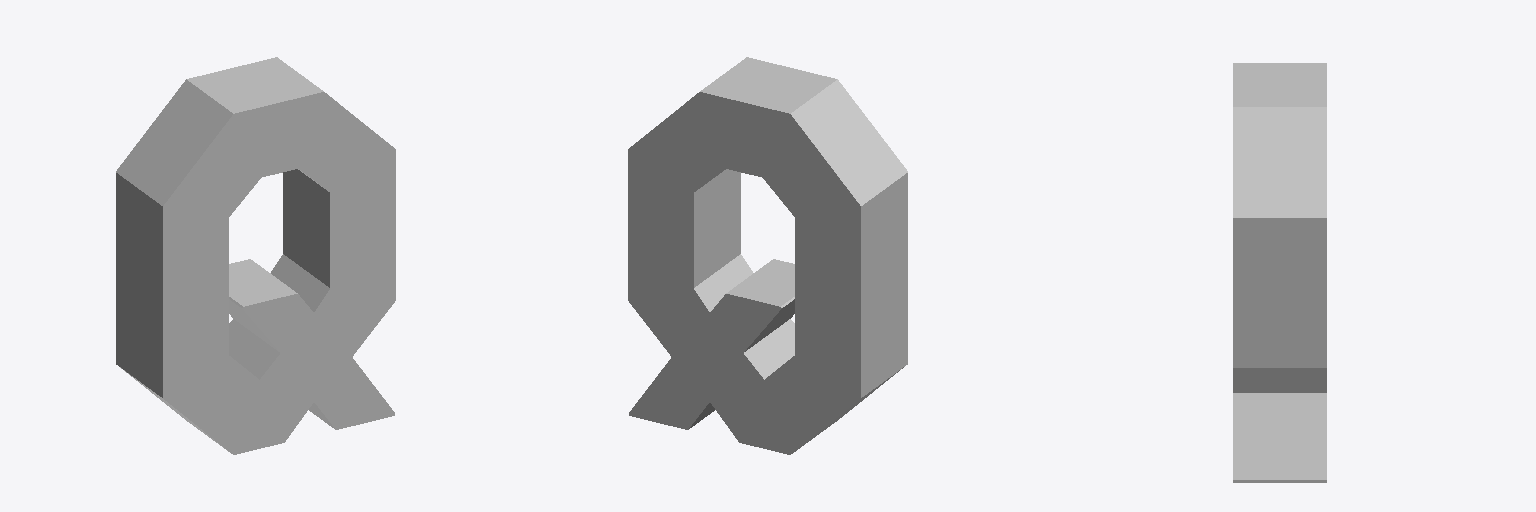
3 views of the same model, side by side, from view 1: azimuth 30°, elevation 25°; view 2: azimuth 150°, elevation 25°; view 3: azimuth 270°, elevation 25° (orthographic).
Parts seen in each view (by area): view 1: text: ABCDEFGHIJKLMNOPQRSTUVWXYZ[number redacted]; view 2: text: ABCDEFGHIJKLMNOPQRSTUVWXYZ[number redacted]; view 3: text: ABCDEFGHIJKLMNOPQRSTUVWXYZ[number redacted].
Part boxes in pixels (x1,y1,x2,y2): text: ABCDEFGHIJKLMNOPQRSTUVWXYZ[number redacted]: (116,57,395,454); text: ABCDEFGHIJKLMNOPQRSTUVWXYZ[number redacted]: (628,57,907,454); text: ABCDEFGHIJKLMNOPQRSTUVWXYZ[number redacted]: (1233,63,1326,482).
Bounding box in the file's own units: 71.21 × 99.43 × 25.